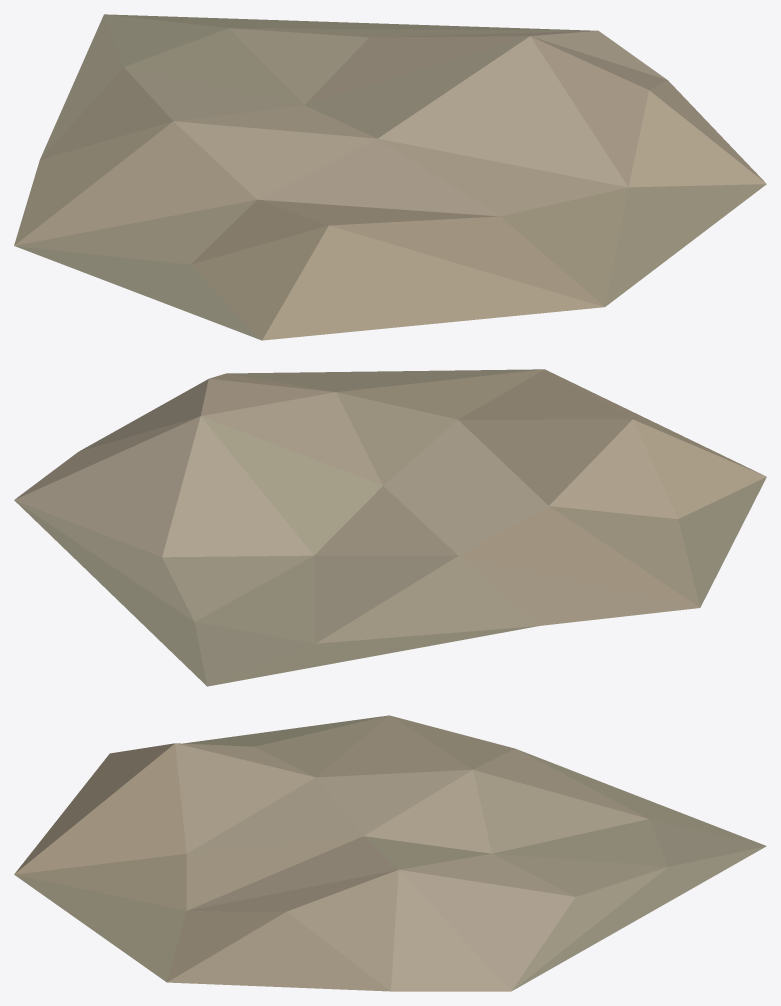
The model's file is kit_dry_c.glb.
The picture shows the model from 3 angles, top to bottom: view 1: azimuth 30°, elevation 25°; view 2: azimuth 150°, elevation 25°; view 3: azimuth 270°, elevation 25°; orthographic projection. The views are drawn at different scales.
Visible parts, largest first — view 1: kit_dry_c; view 2: kit_dry_c; view 3: kit_dry_c.
Boxes of the visible parts, x1,y1,x2,y2 form: kit_dry_c: [14, 14, 766, 340]; kit_dry_c: [14, 369, 766, 686]; kit_dry_c: [14, 715, 766, 991].
Size of the model in its own units: 30.86 by 3.55 by 34.97.
